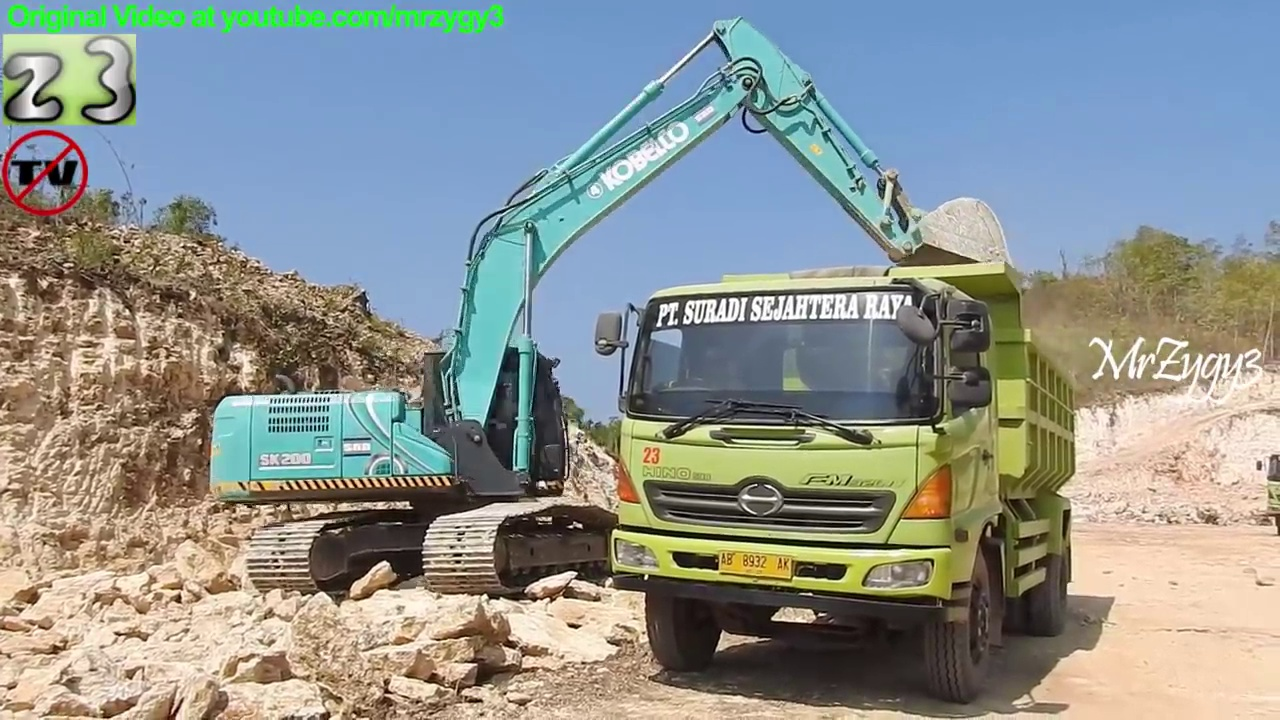excavator: (202, 13, 1036, 609)
truck: (591, 259, 1085, 707)
